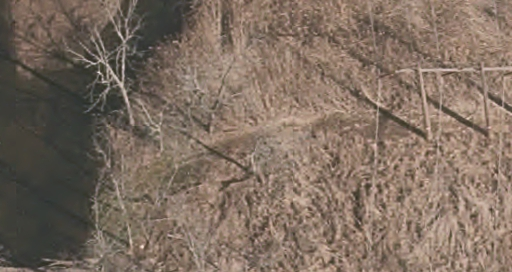DT: (374, 52, 512, 147)
